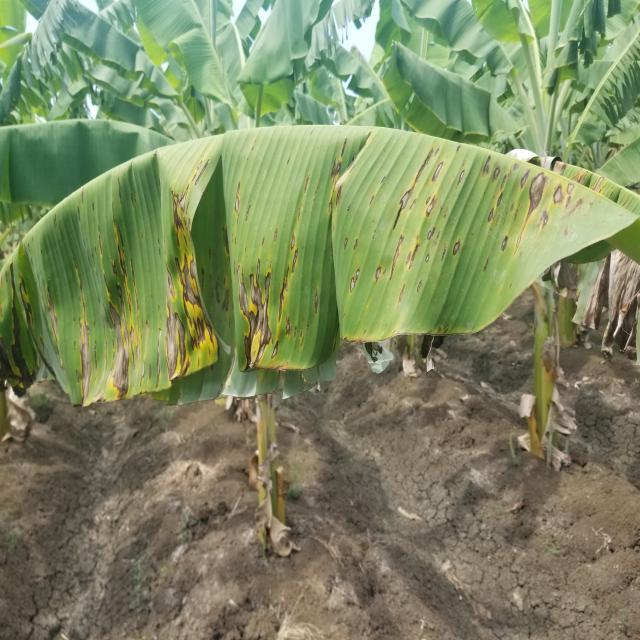Early_rust: (0, 100, 640, 444)
